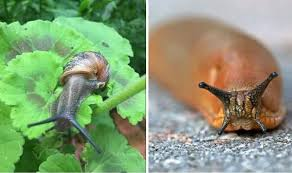slug: (149, 20, 287, 138)
snail: (26, 47, 111, 154)
